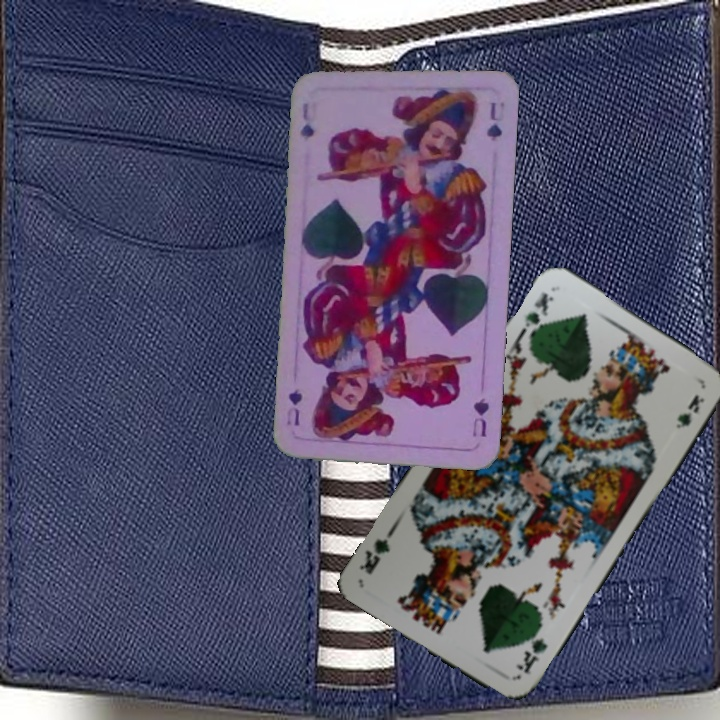GK: (512, 623, 550, 677), (516, 288, 556, 337)
GU: (469, 393, 491, 440), (295, 98, 317, 143)
